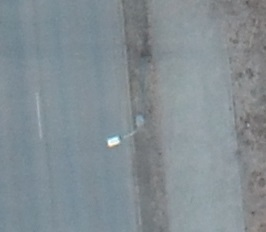opora: (106, 53, 153, 148)
